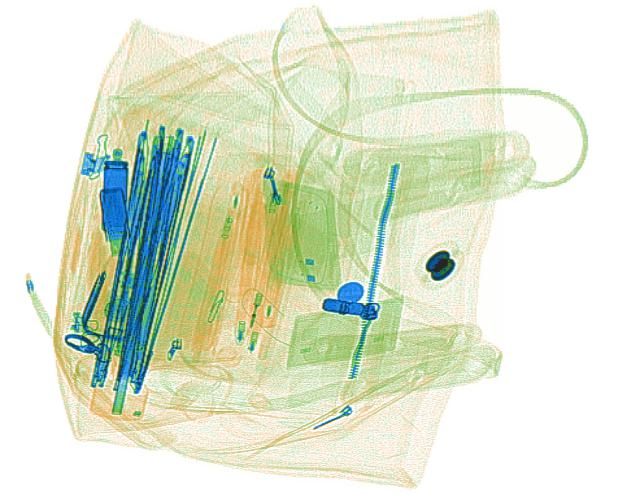USBFlashDisk: (97, 187, 131, 253)
